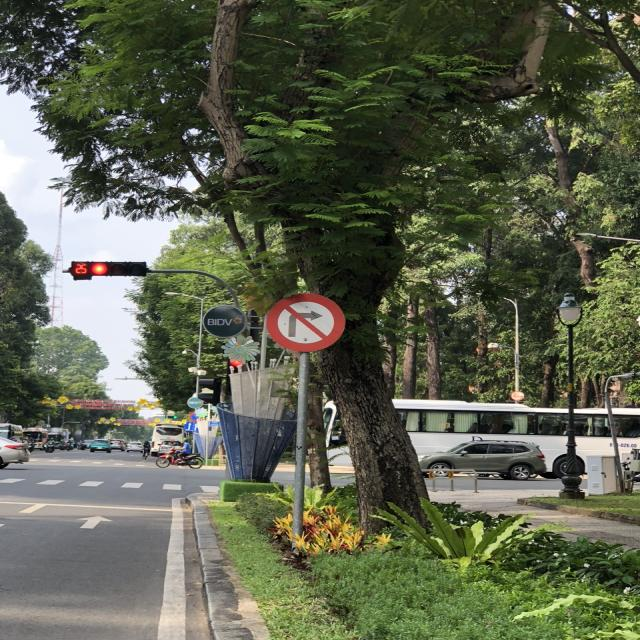Bien bao cam re phai: (250, 285, 356, 359)
